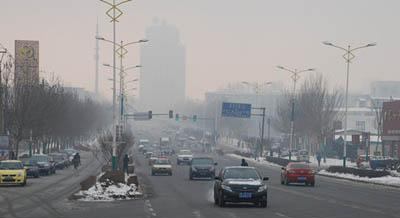car: (213, 166, 270, 208), (280, 161, 316, 186), (187, 156, 218, 181), (1, 159, 28, 187), (30, 154, 55, 176), (151, 157, 172, 176), (50, 153, 67, 170), (176, 149, 194, 165), (296, 149, 310, 164)
